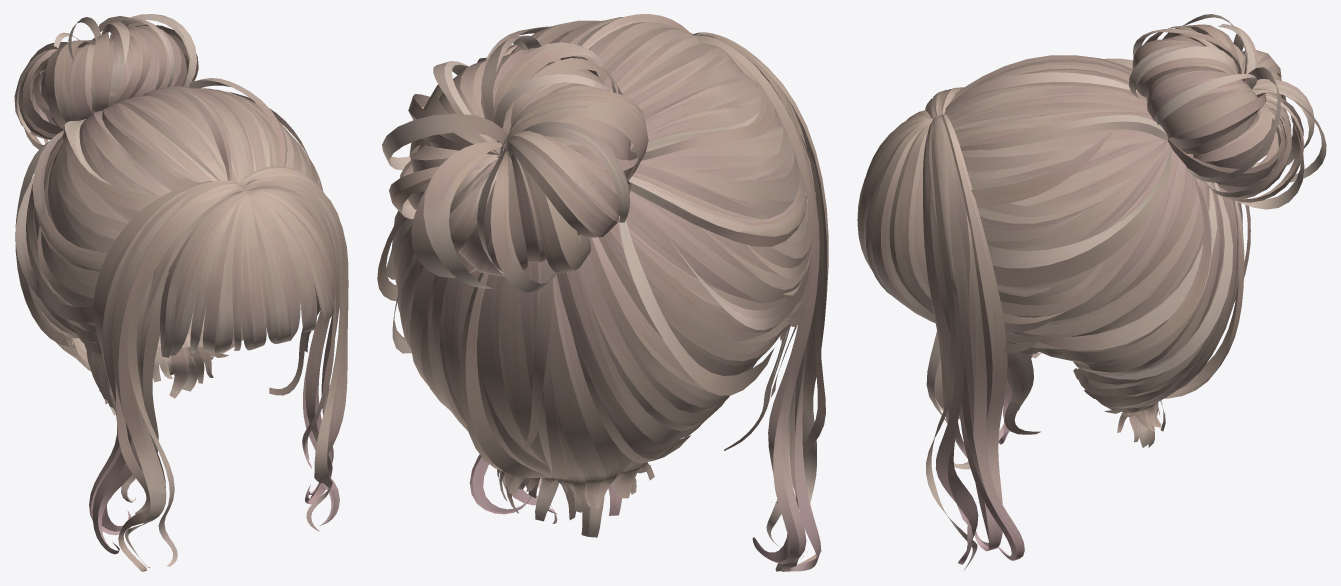
File: bunhair.glb
3 renders of one model, left to right at view 1: azimuth 30°, elevation 25°; view 2: azimuth 150°, elevation 25°; view 3: azimuth 270°, elevation 25°, orthographic. The views are drawn at different scales.
Visible parts, largest first — view 1: PH00016_01, PH00016_03, PH00016_04, PH00016_05, PH00016_02, PH00016_06; view 2: PH00016_01, PH00016_04, PH00016_02, PH00016_03, PH00016_05; view 3: PH00016_01, PH00016_02, PH00016_04, PH00016_03, PH00016_05, PH00016_06.
Boxes of the visible parts, left/top/right/bottom form: PH00016_01: left=26, top=86, right=335, bottom=415; PH00016_03: left=89, top=166, right=339, bottom=554; PH00016_04: left=14, top=14, right=198, bottom=149; PH00016_05: left=112, top=169, right=348, bottom=571; PH00016_02: left=15, top=78, right=317, bottom=346; PH00016_06: left=277, top=177, right=345, bottom=531; PH00016_01: left=392, top=17, right=814, bottom=537; PH00016_04: left=382, top=35, right=648, bottom=292; PH00016_02: left=377, top=14, right=810, bottom=477; PH00016_03: left=469, top=33, right=820, bottom=571; PH00016_05: left=525, top=32, right=828, bottom=571; PH00016_01: left=857, top=55, right=1242, bottom=447; PH00016_02: left=945, top=58, right=1250, bottom=398; PH00016_04: left=1129, top=14, right=1326, bottom=209; PH00016_03: left=923, top=87, right=1024, bottom=560; PH00016_05: left=926, top=90, right=978, bottom=564; PH00016_06: left=926, top=131, right=977, bottom=570.
Size of the model in its own units: 0.2157 by 0.3484 by 0.3021.
3 materials, 3 textured.
